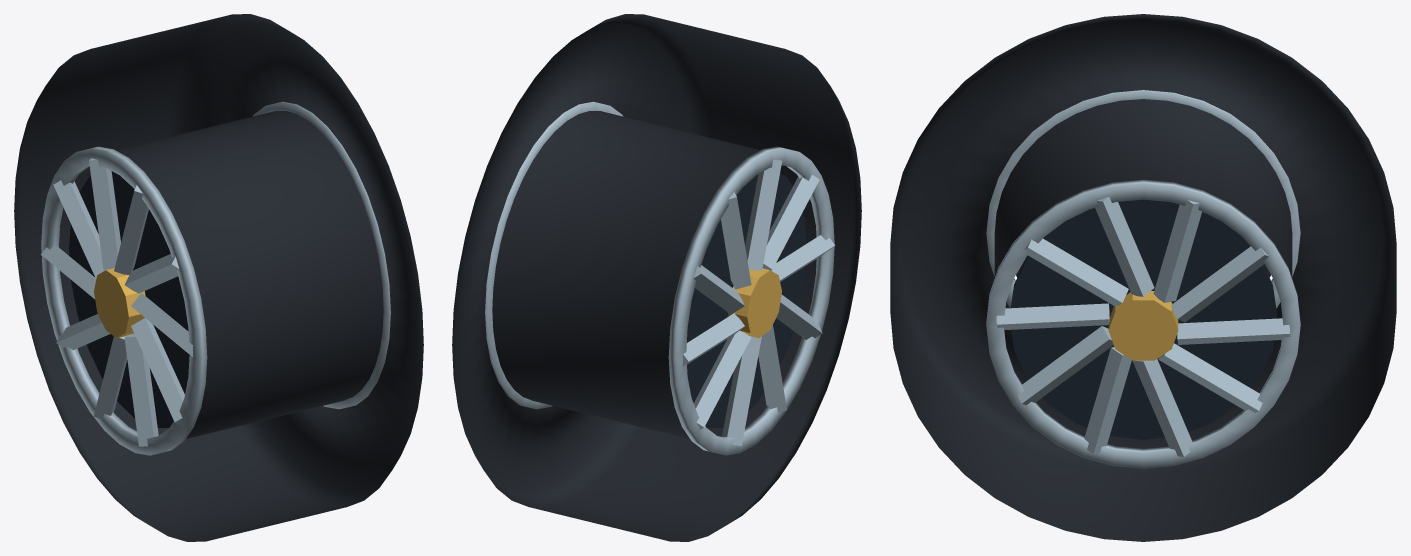
File: turbine.glb
The picture shows the model from 3 angles, left to right: view 1: azimuth 30°, elevation 25°; view 2: azimuth 150°, elevation 25°; view 3: azimuth 270°, elevation 25°; orthographic projection.
Visible parts, largest first — view 1: Wheel; view 2: Wheel; view 3: Wheel.
Boxes of the visible parts, x1,y1,x2,y2 form: Wheel: (14, 14, 423, 541); Wheel: (452, 14, 861, 541); Wheel: (890, 14, 1396, 541).
Bounding box in the file's own units: 0.334 × 0.68 × 0.68.
